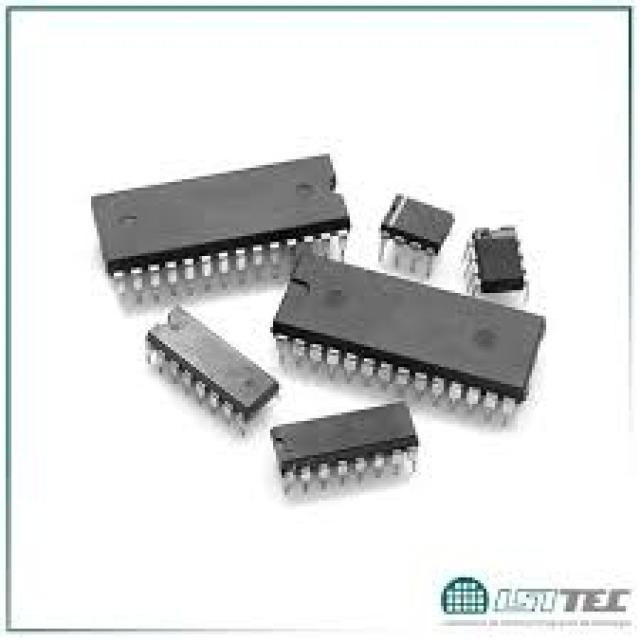IC: (272, 249, 548, 423), (90, 156, 352, 308), (147, 306, 279, 432), (270, 400, 423, 500), (376, 191, 457, 279)
